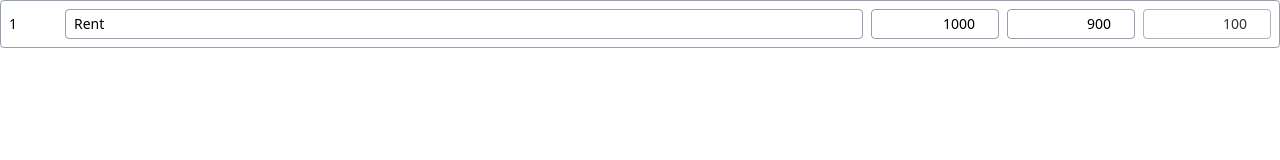
Test: DataItem › reverts values on update error
Replace the text in the 1st number field named "projected amount" with "1100" at (935, 24), box [871,9,999,39]
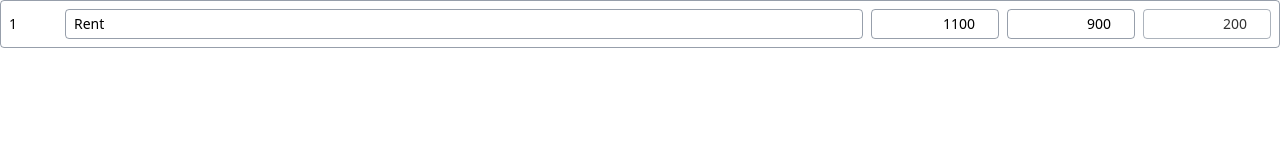
Leave the 1st number field named "projected amount", box [871,9,999,39]
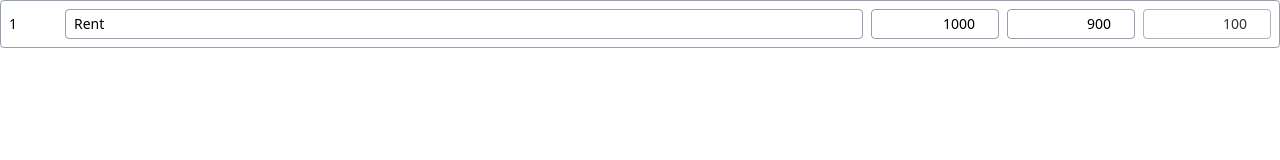
Result: the 1st number field named "projected amount" holds "1000" at [871,9,999,39]
